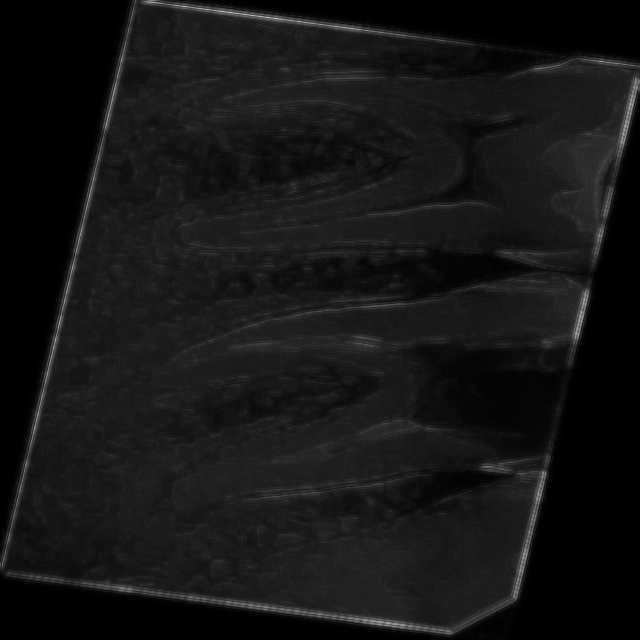Class 1- complete endodontic treatment: (82, 243, 470, 582)
cavity: (116, 9, 570, 310)
